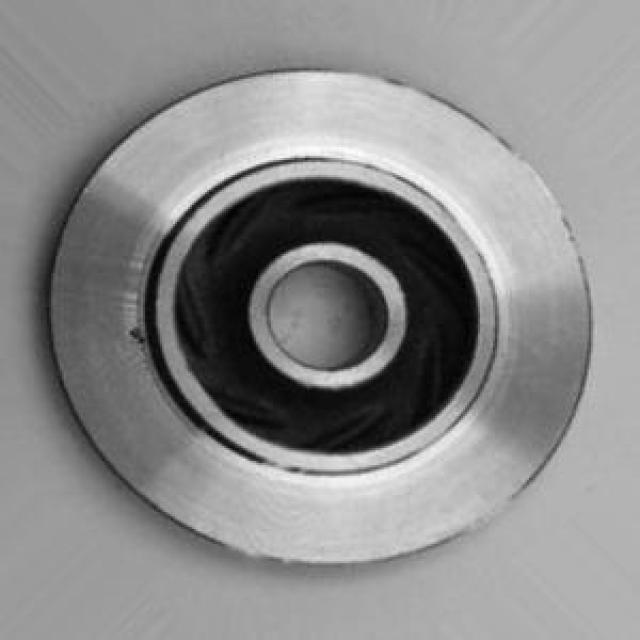Defect: (116, 321, 158, 348)
